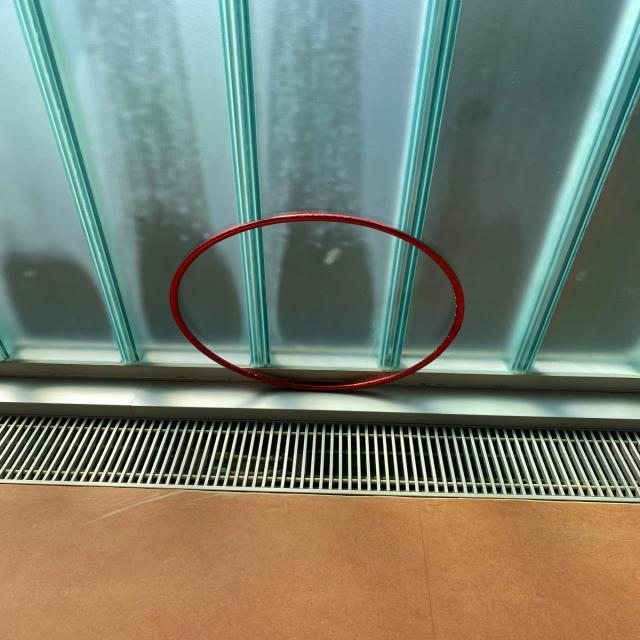Circle: (166, 207, 472, 396)
